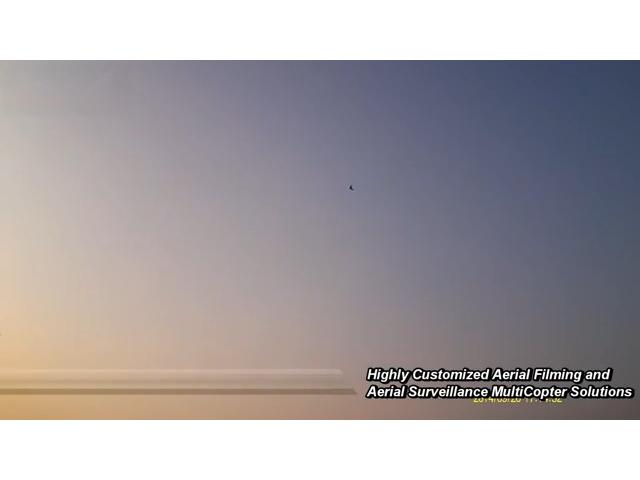Anti-Drone: (338, 173, 366, 200)
